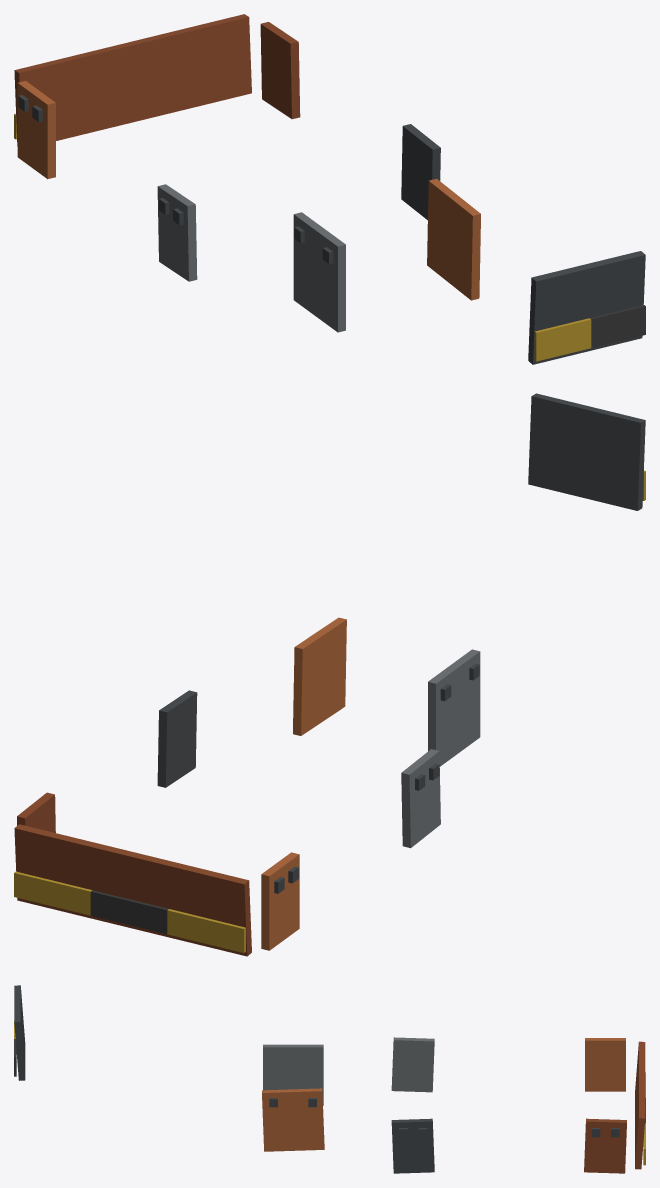
The model's file is upg_armor_plates_t1.glb.
The picture shows the model from 3 angles, top to bottom: view 1: azimuth 30°, elevation 25°; view 2: azimuth 150°, elevation 25°; view 3: azimuth 270°, elevation 25°; orthographic projection. The views are drawn at different scales.
Visible parts, largest first — view 1: armor_plates; view 2: armor_plates; view 3: armor_plates.
Boxes of the visible parts, box(x1,y1,x2,y2) form: armor_plates: box(14, 14, 645, 364); armor_plates: box(14, 393, 645, 956); armor_plates: box(14, 985, 645, 1173).
Size of the model in its own units: 0.95 by 0.6539 by 2.92.
